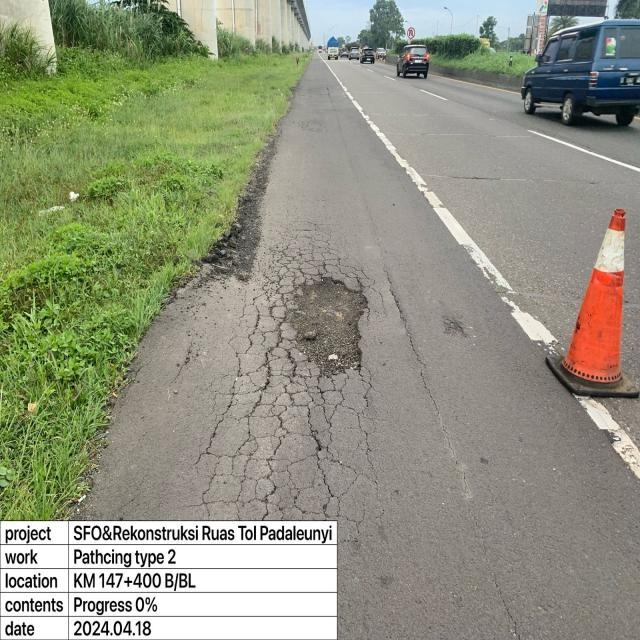Buraco: (288, 275, 372, 381)
